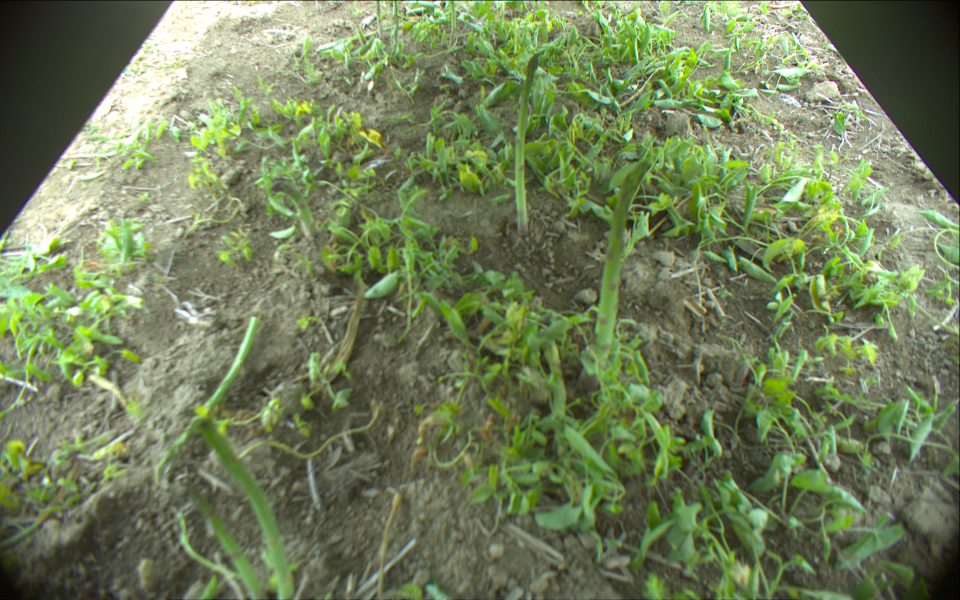aspa: (152, 315, 261, 484), (202, 414, 296, 600), (578, 161, 649, 391), (183, 482, 261, 600), (514, 52, 541, 237), (267, 176, 317, 236), (326, 19, 414, 47), (375, 1, 384, 40), (450, 1, 458, 33)
